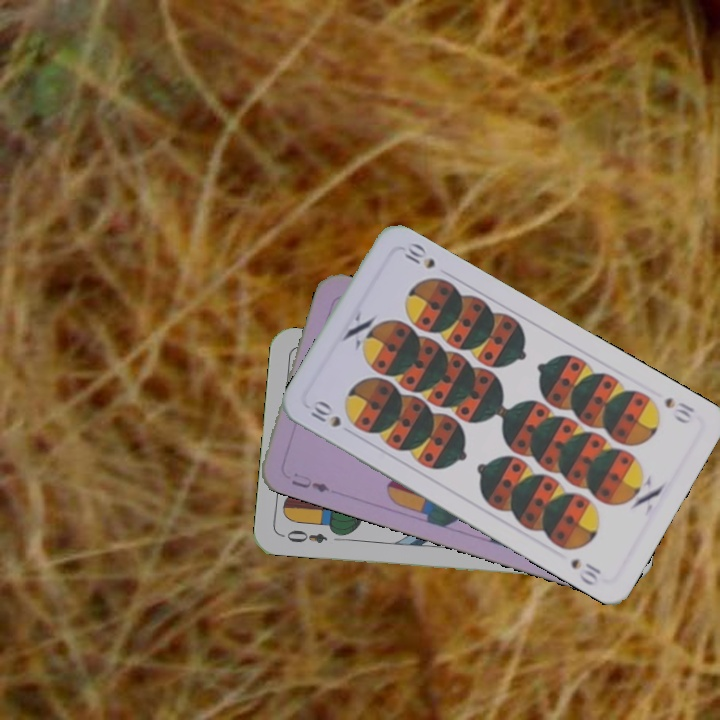EO: (278, 526, 330, 546)
EU: (287, 468, 332, 495)
S10: (660, 393, 698, 427), (306, 397, 344, 430)
